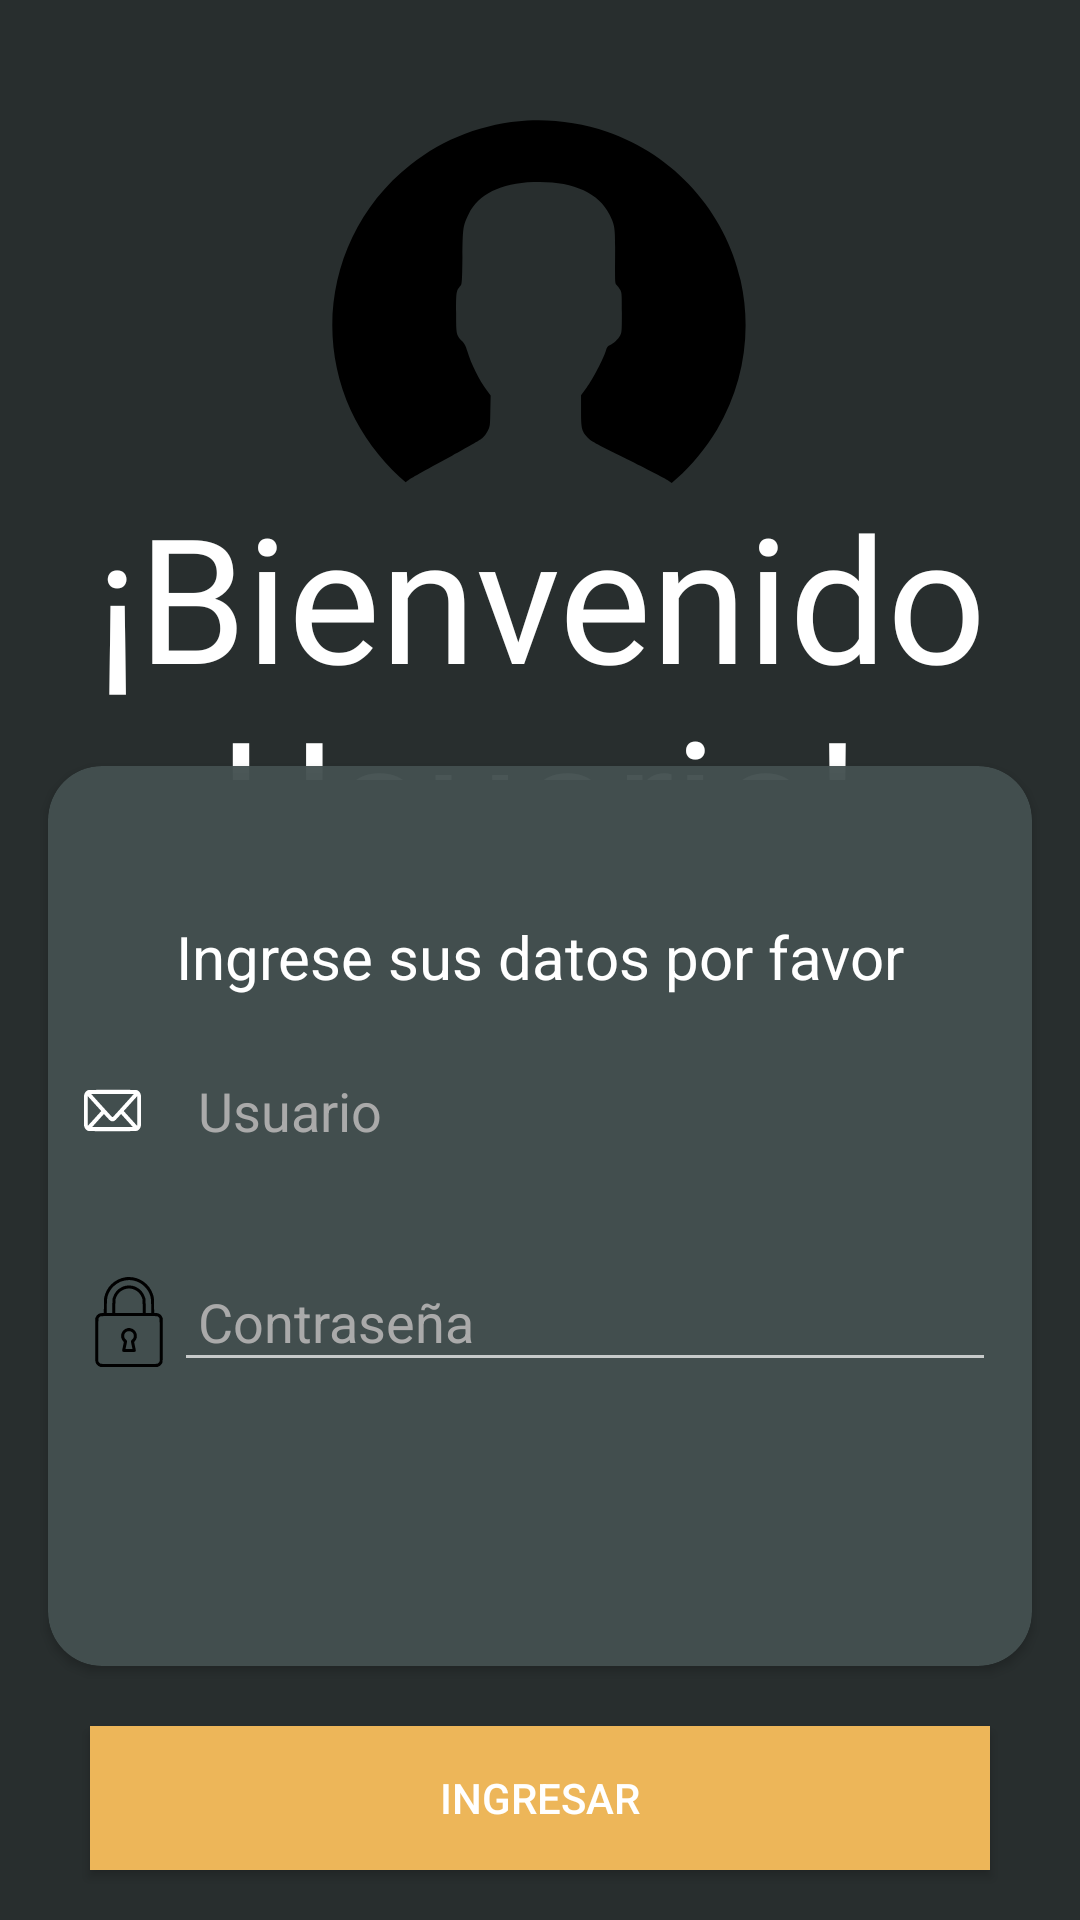

Point at icon controls on the screen. Image size 1080w x 1920h, points as [x,y].
email: [112,1110]
password: [129,1322]
